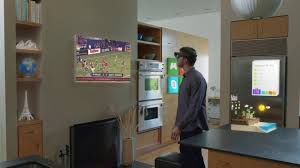hololens: (173, 51, 198, 63)
